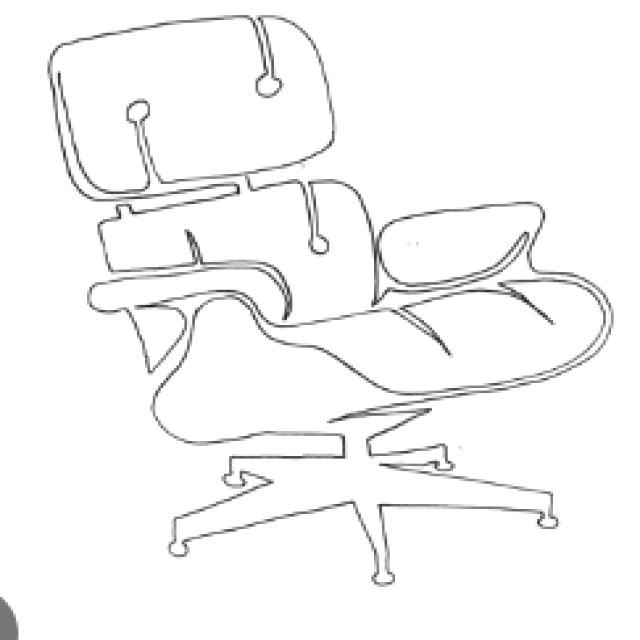Backrest: (91, 175, 382, 324)
Eames_base: (160, 440, 570, 594)
Eames_lounge: (83, 258, 298, 381), (373, 199, 547, 287)
Headrest: (42, 13, 338, 208)
Seat: (147, 265, 617, 450)
